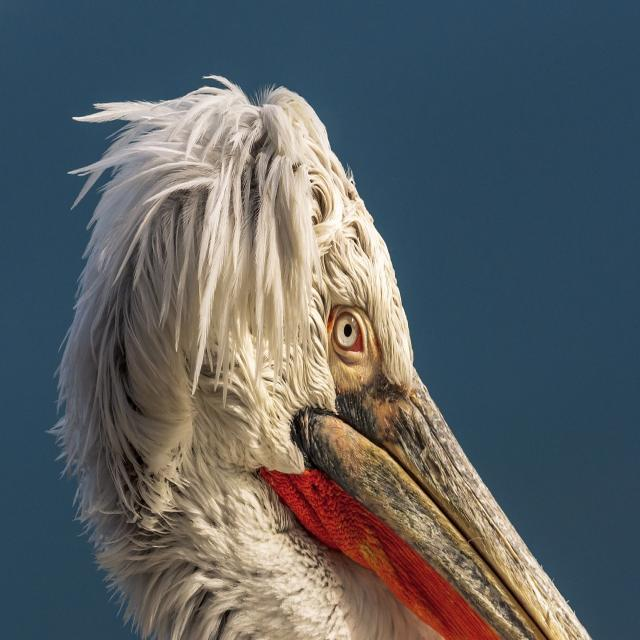Carnivorous: (50, 76, 592, 640)
